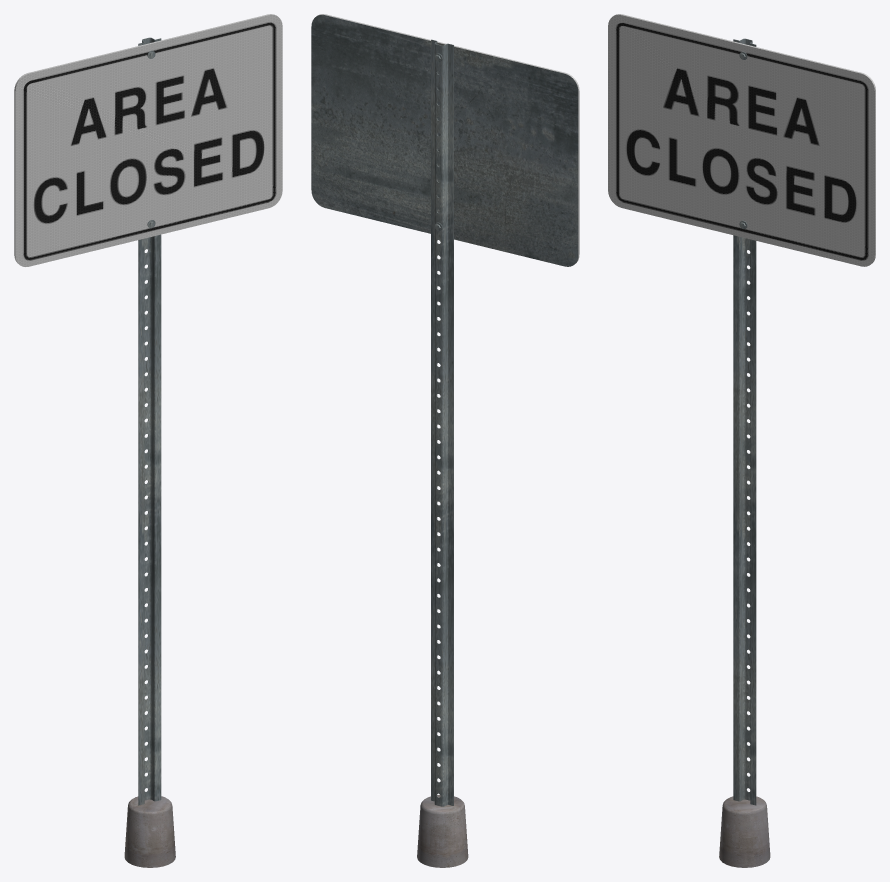
Rendered from areaclosed_nsoc.obj.
3 views of the same model, side by side, from view 1: azimuth 30°, elevation 25°; view 2: azimuth 150°, elevation 25°; view 3: azimuth 330°, elevation 25° (orthographic).
Visible parts, largest first — view 1: sign_area_closed; view 2: sign_area_closed; view 3: sign_area_closed.
Boxes of the visible parts, <box> form: sign_area_closed: <box>14,14,282,867</box>; sign_area_closed: <box>311,14,579,867</box>; sign_area_closed: <box>608,14,875,867</box>.
Bounding box in the file's own units: 35.06 × 102 × 5.84.
3 materials, 3 textured.
